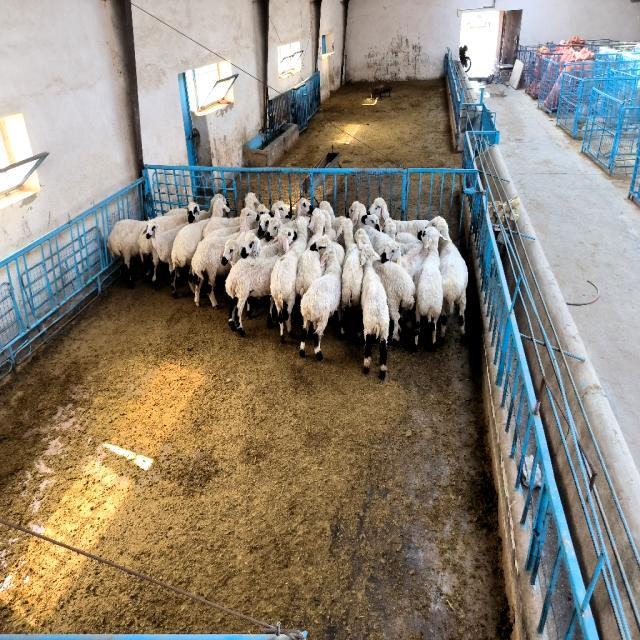sheep: (225, 228, 295, 336), (429, 217, 469, 342), (270, 217, 309, 342), (300, 247, 341, 360), (360, 243, 390, 379), (191, 232, 239, 308), (414, 227, 442, 351), (374, 260, 415, 344), (171, 218, 210, 298), (338, 218, 362, 338), (295, 208, 325, 296), (108, 220, 146, 288), (349, 202, 395, 255), (369, 198, 428, 238), (146, 222, 186, 272), (381, 242, 428, 278), (240, 233, 279, 258), (202, 217, 241, 238), (221, 233, 245, 265), (236, 208, 258, 231), (211, 195, 230, 218), (266, 217, 284, 238), (294, 197, 311, 218), (271, 200, 289, 219), (258, 213, 271, 238), (188, 202, 200, 222), (245, 192, 259, 209)
